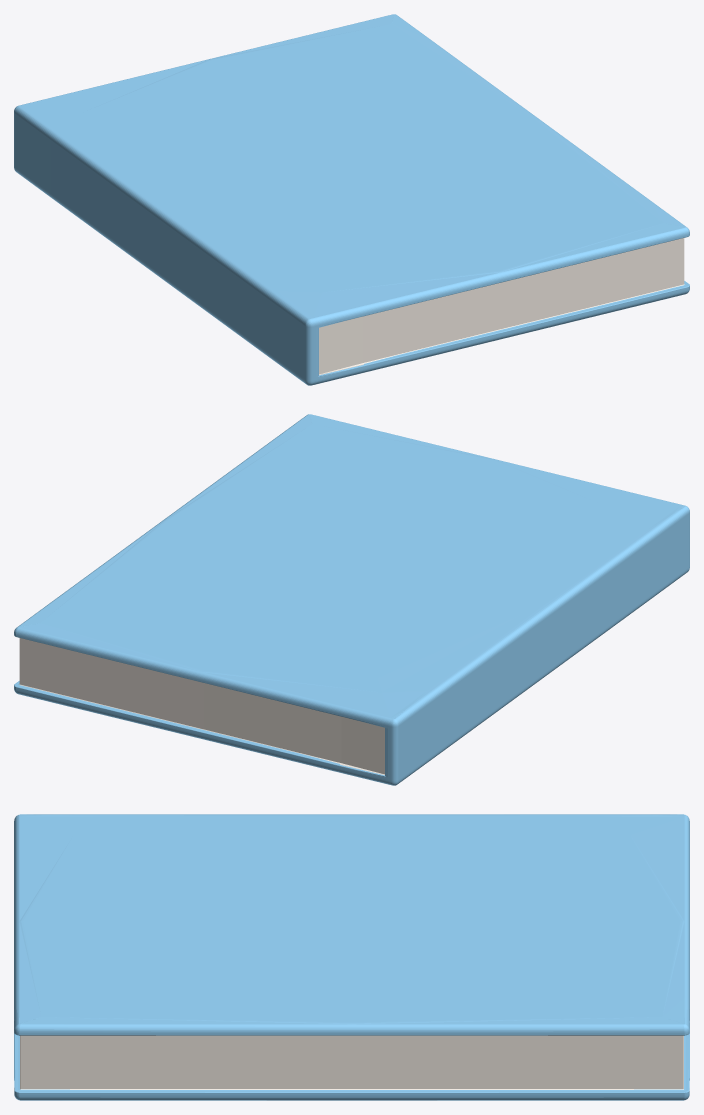
Rendered from book.obj.
3 views of the same model, one above another, from view 1: azimuth 30°, elevation 25°; view 2: azimuth 150°, elevation 25°; view 3: azimuth 270°, elevation 25° (orthographic). The views are drawn at different scales.
Visible parts, largest first — view 1: Cube.1; view 2: Cube.1; view 3: Cube.1.
Part boxes in pixels (x1,y1,x2,y2): Cube.1: (14, 14, 689, 385); Cube.1: (14, 414, 689, 785); Cube.1: (14, 814, 689, 1100).
Size of the model in its own units: 15 by 2.5 by 20.
